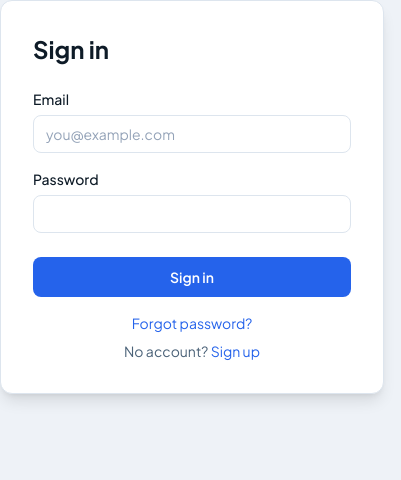
it: LoginPage — F-14-07: INVALID_CREDENTIALS error › shows "Incorrect email or password" for INVALID_CREDENTIALS detail
Type "a@b.com" into the field labelled "Email" at (192, 134), box top-left (33, 115), bottom-right (351, 153)
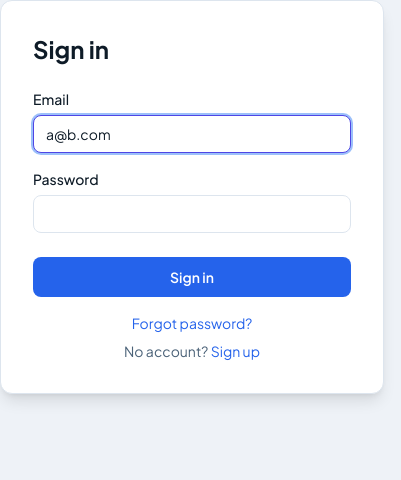
Type "wrong" into the password field labelled "Password" at (192, 214), box top-left (33, 195), bottom-right (351, 233)
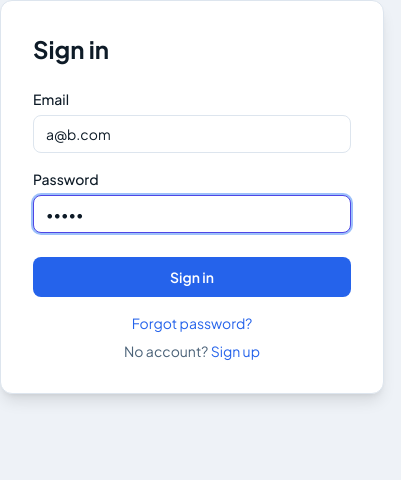
Click the button "Sign in" at (192, 277), box top-left (33, 257), bottom-right (351, 297)
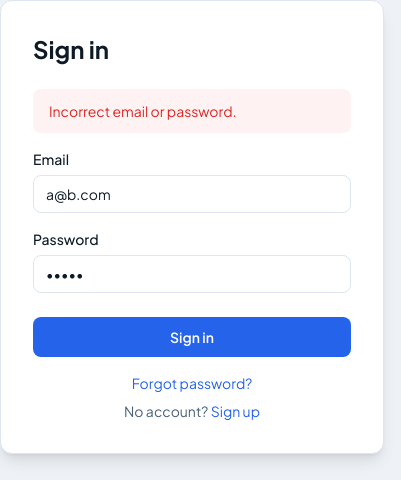
Now the message shows "Incorrect email or password", box top-left (49, 102), bottom-right (237, 120)
